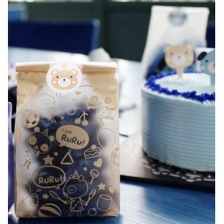snack: (9, 53, 126, 222)
